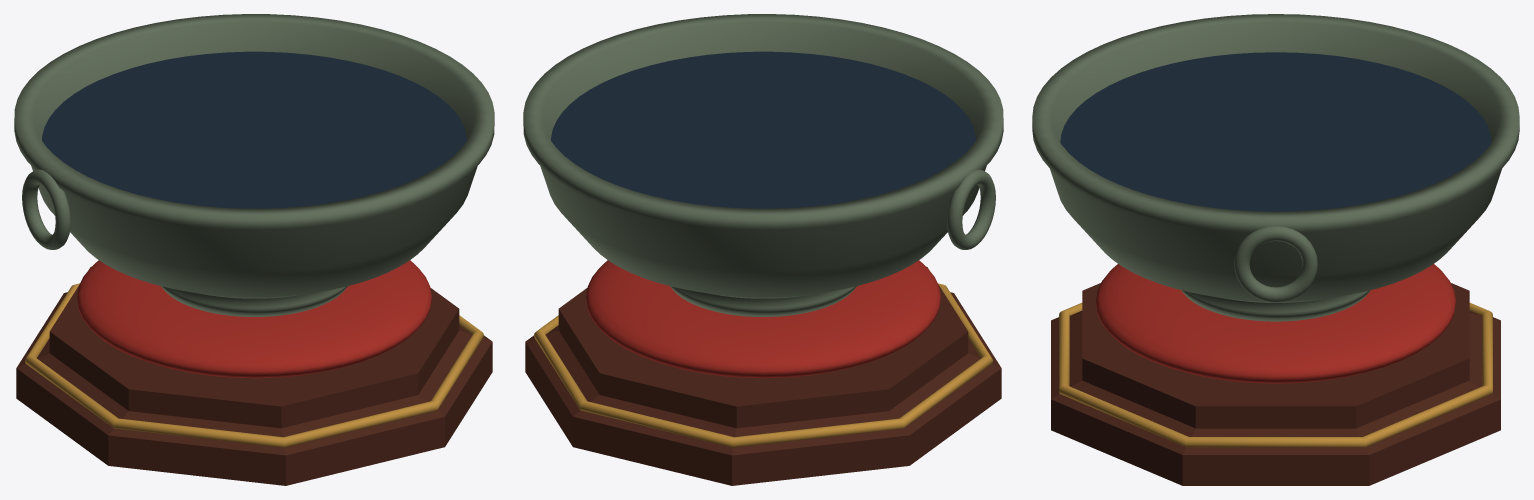
File: deume-mirror.glb
3 views of the same model, side by side, from view 1: azimuth 30°, elevation 25°; view 2: azimuth 150°, elevation 25°; view 3: azimuth 270°, elevation 25° (orthographic).
Visible parts, largest first — view 1: deume-mirror; view 2: deume-mirror; view 3: deume-mirror.
Part boxes in pixels (x1,y1,x2,y2): deume-mirror: [14, 14, 494, 485]; deume-mirror: [523, 14, 1003, 485]; deume-mirror: [1032, 14, 1519, 485].
Bounding box in the file's own units: 1.03 × 0.62 × 1.
